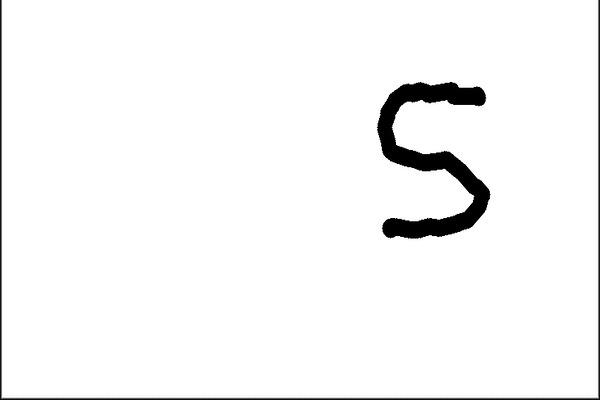S: (369, 77, 494, 246)
